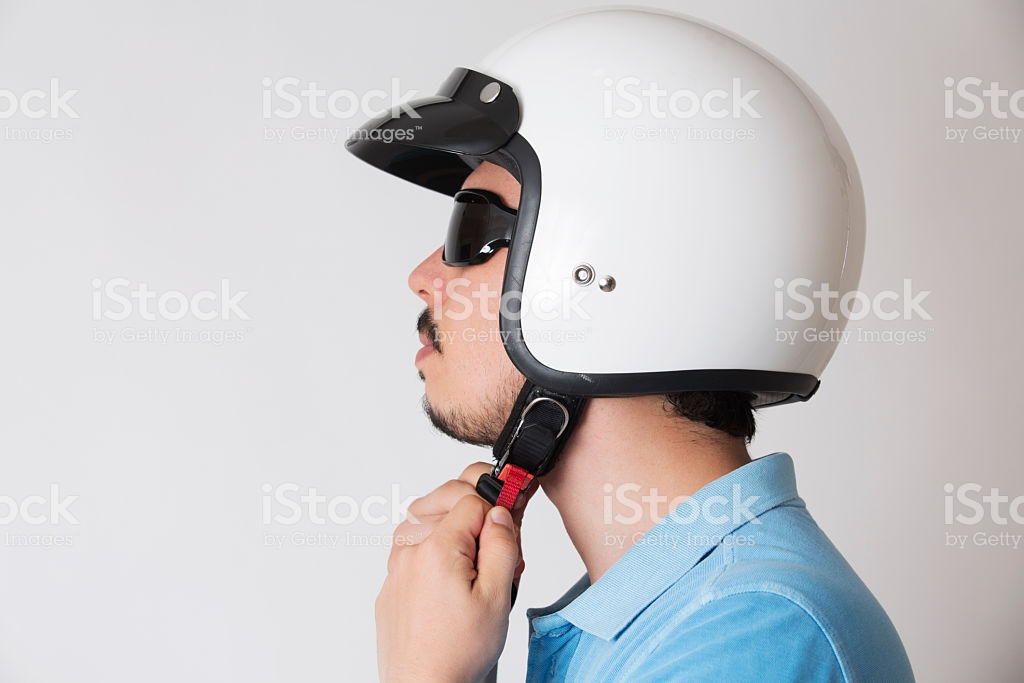helmet: (407, 39, 860, 428)
